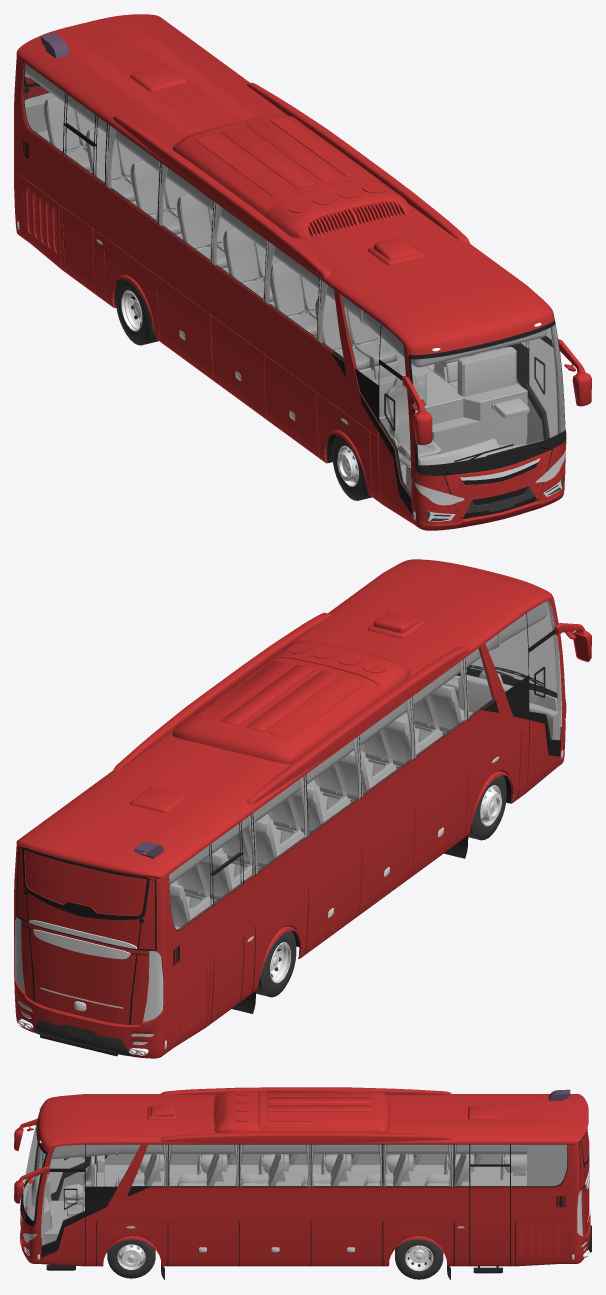
File: ecoline_red.glb
The picture shows the model from 3 angles, top to bottom: view 1: azimuth 30°, elevation 25°; view 2: azimuth 150°, elevation 25°; view 3: azimuth 270°, elevation 25°; orthographic projection. The views are drawn at different scales.
Visible parts, largest first — view 1: bodi, kaca, ac, kursi, lis, lantai, sayap, dek, skat, ban, gorden, kursi_supir (+8 smaller); view 2: bodi, kaca, ac, kursi, sayap, lis, dek, lantai, ban, krum, lampu_blkng, gorden (+7 smaller); view 3: bodi, kaca, ac, kursi, lis, lantai, dek, sayap, daleman, ban, wc, gorden (+7 smaller).
Boxes of the visible parts, x1,y1,x2,y2 form: bodi: (14,14,566,530); kaca: (22,63,564,497); ac: (130,65,425,265); kursi: (44,97,496,382); lis: (16,62,566,526); lantai: (24,93,527,484); sayap: (113,82,469,278); dek: (25,63,547,367); skat: (372,347,516,416); ban: (116,279,372,500); gorden: (104,124,327,343); kursi_supir: (386,373,441,465); bodi: (14,559,566,1058); kaca: (169,601,560,930); ac: (130,613,425,812); kursi: (169,685,472,927); sayap: (113,612,469,805); lis: (16,601,566,1024); dek: (151,601,547,884); lantai: (172,712,442,929); ban: (256,775,506,997); krum: (28,920,137,1008); lampu_blkng: (14,917,163,1044); gorden: (247,658,469,875); bodi: (19,1094,590,1266); kaca: (23,1122,566,1245); ac: (147,1090,497,1133); kursi: (115,1154,526,1186); lis: (20,1118,589,1266); lantai: (44,1165,526,1243); dek: (52,1144,526,1159); sayap: (160,1087,451,1143); daleman: (23,1146,501,1237); ban: (107,1239,443,1279); wc: (527,1144,567,1185); gorden: (162,1144,457,1186).
Size of the model in its own units: 2.88 by 3.59 by 12.22.
